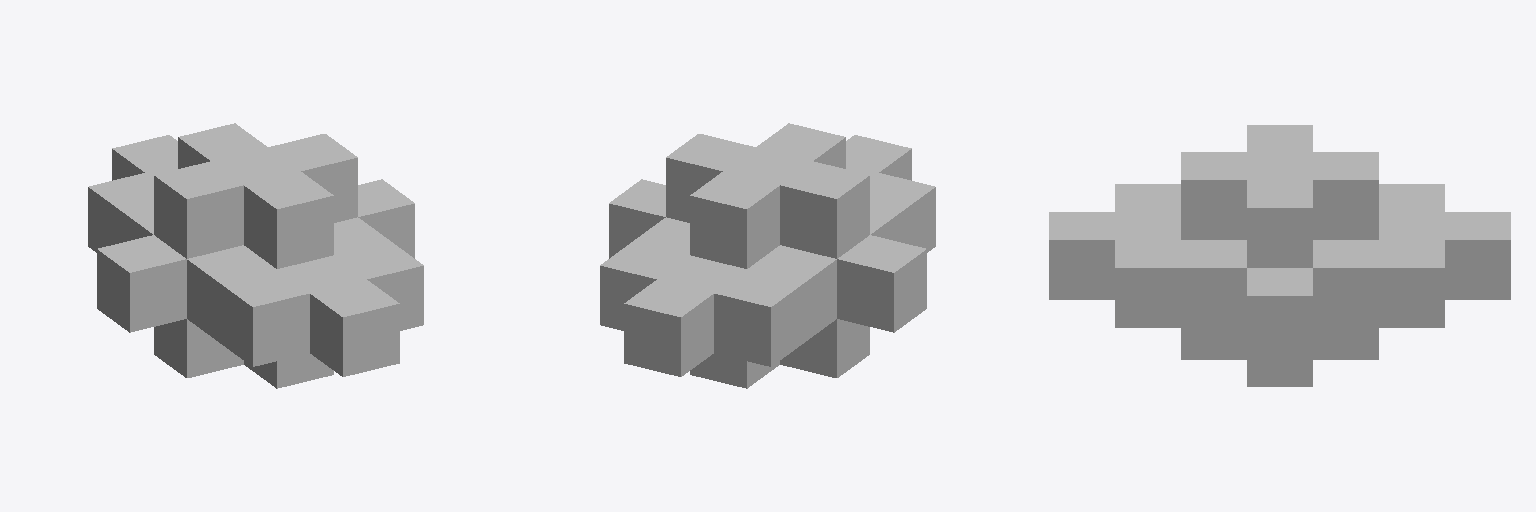
Rendered from bolt.obj.
The picture shows the model from 3 angles: view 1: azimuth 30°, elevation 25°; view 2: azimuth 150°, elevation 25°; view 3: azimuth 270°, elevation 25°; orthographic projection.
Size of the model in its own units: 5 by 3 by 7.